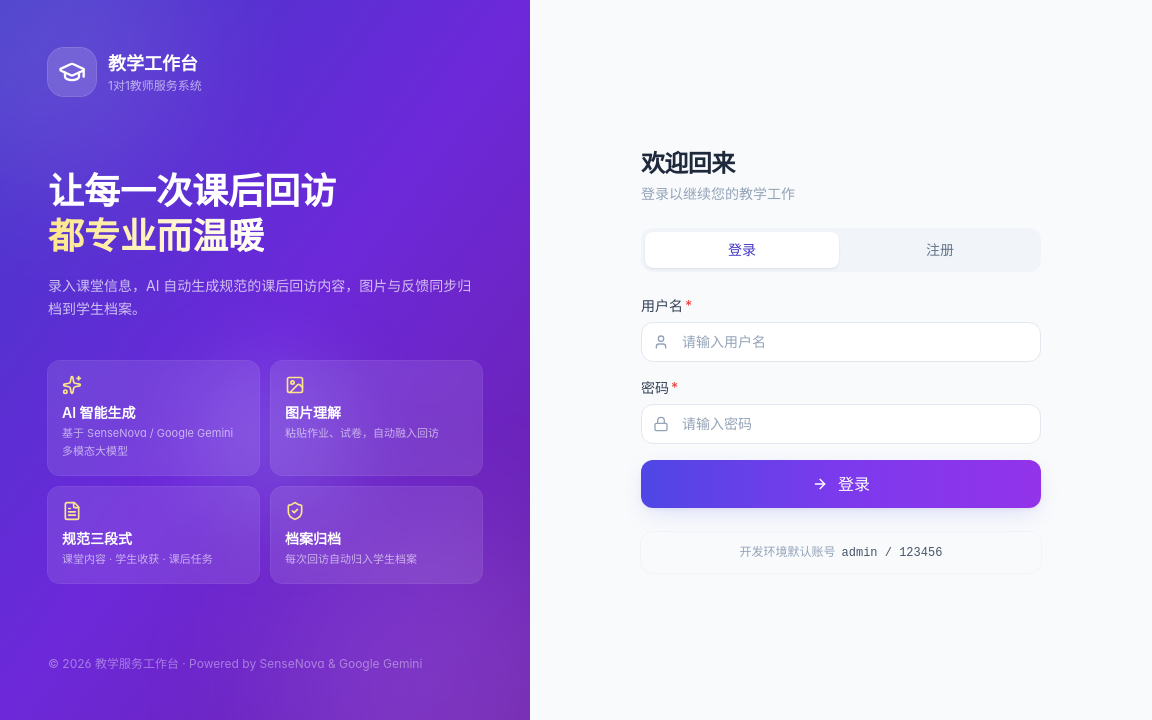
Scenario: 登录页 · 注册校验 › 两次密码不一致时阻止提交
Click the button "注册" at (940, 250), box top-left (843, 232), bottom-right (1037, 268)
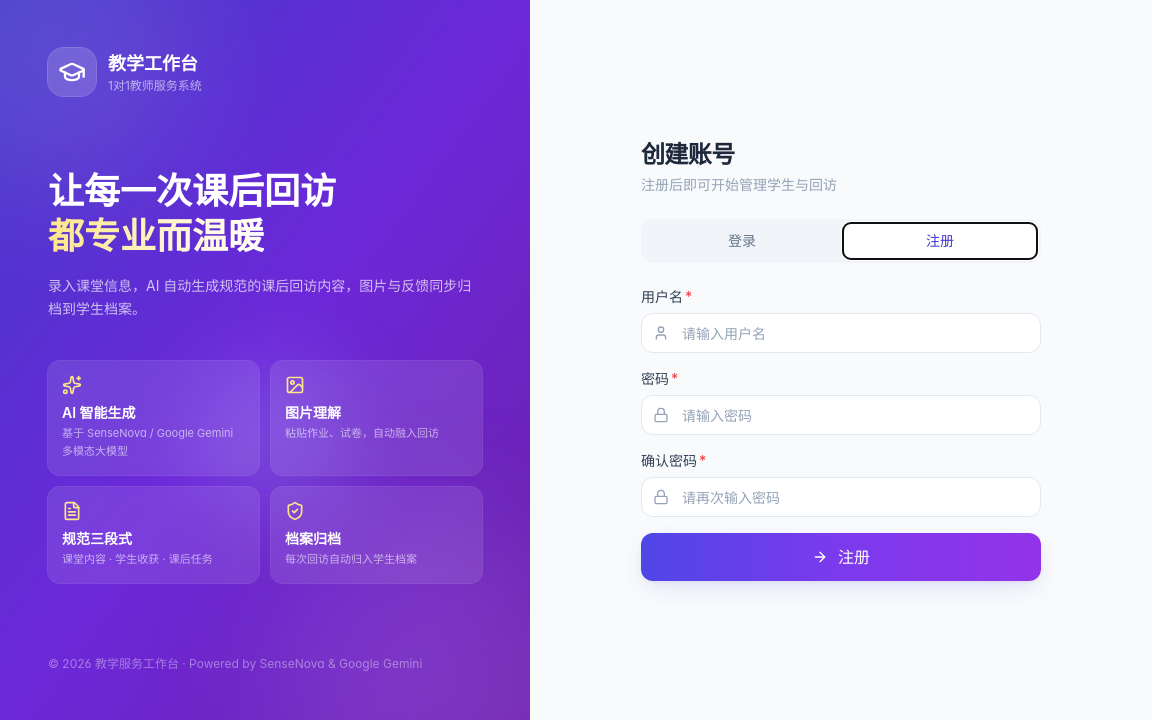
Type "newuser" into the field labelled "用户名*" at (841, 333), box top-left (641, 313), bottom-right (1041, 353)
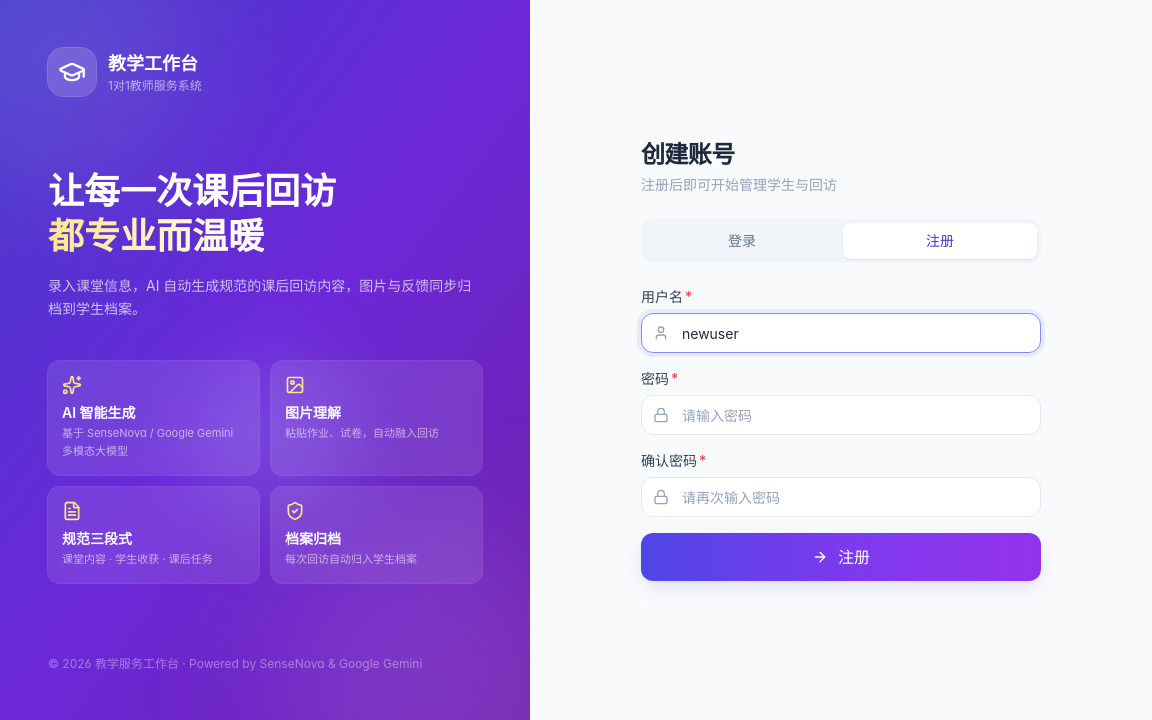
Type "secret123" into the password field labelled "密码*" at (841, 415), box top-left (641, 395), bottom-right (1041, 435)
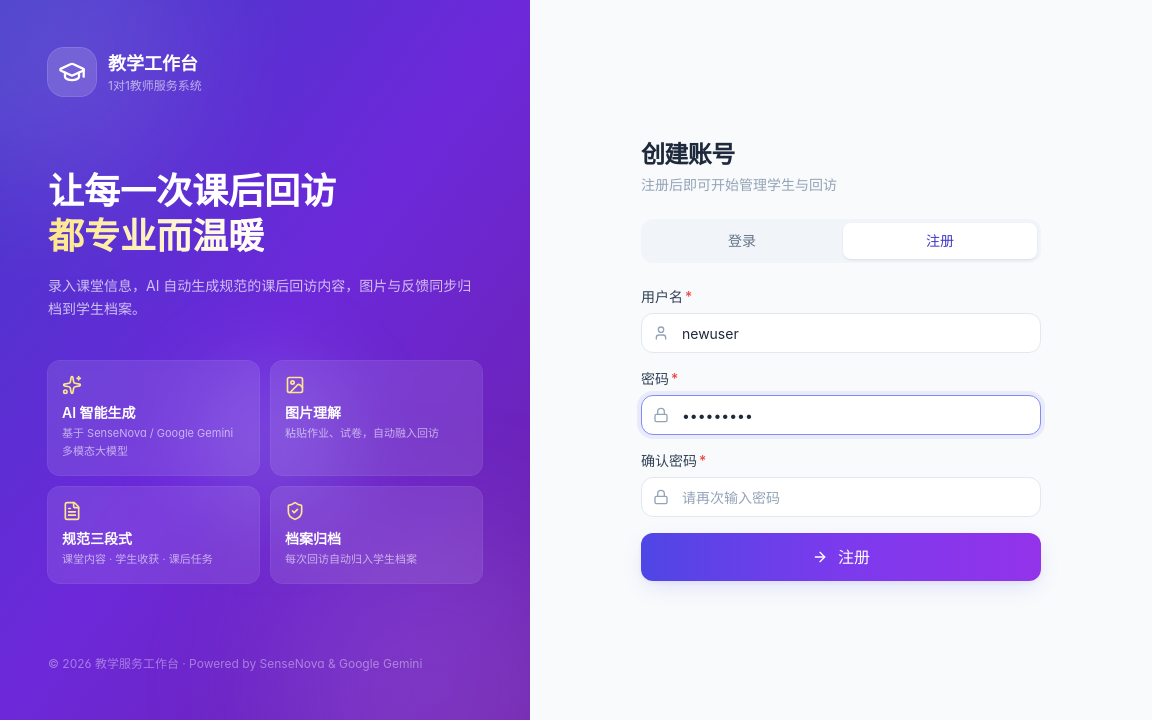
Type "different" into the password field labelled "确认密码*" at (841, 497), box top-left (641, 477), bottom-right (1041, 517)
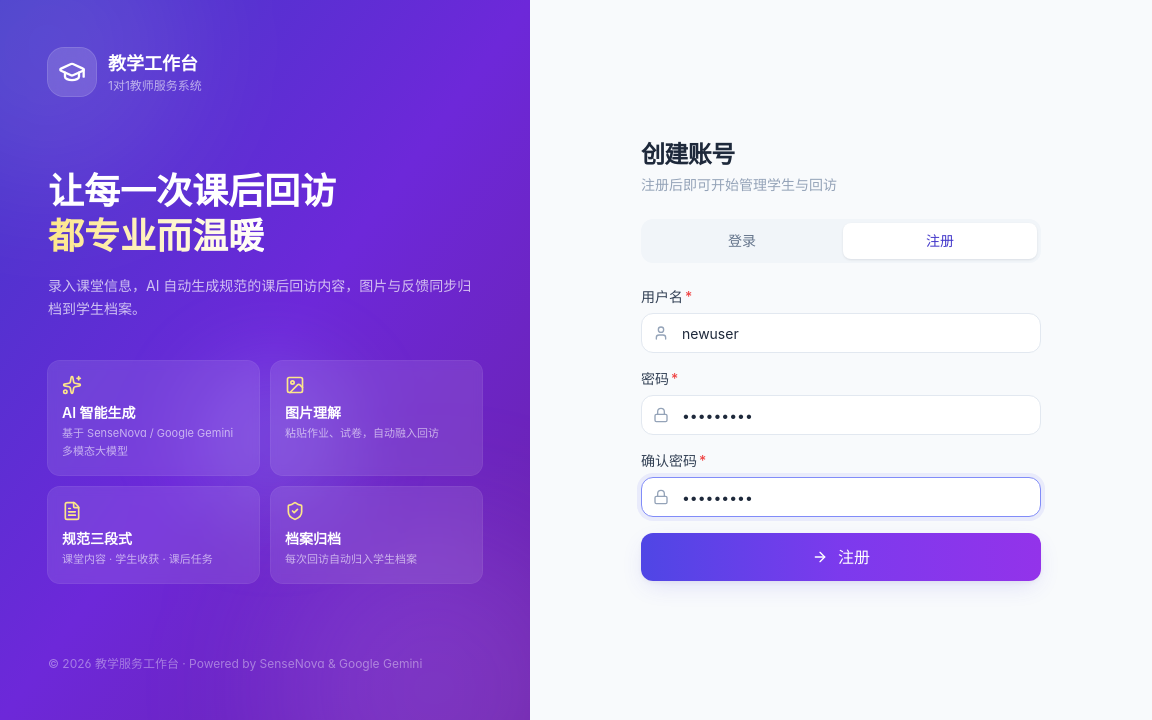
Click the submit button at (841, 557), box top-left (641, 533), bottom-right (1041, 581)
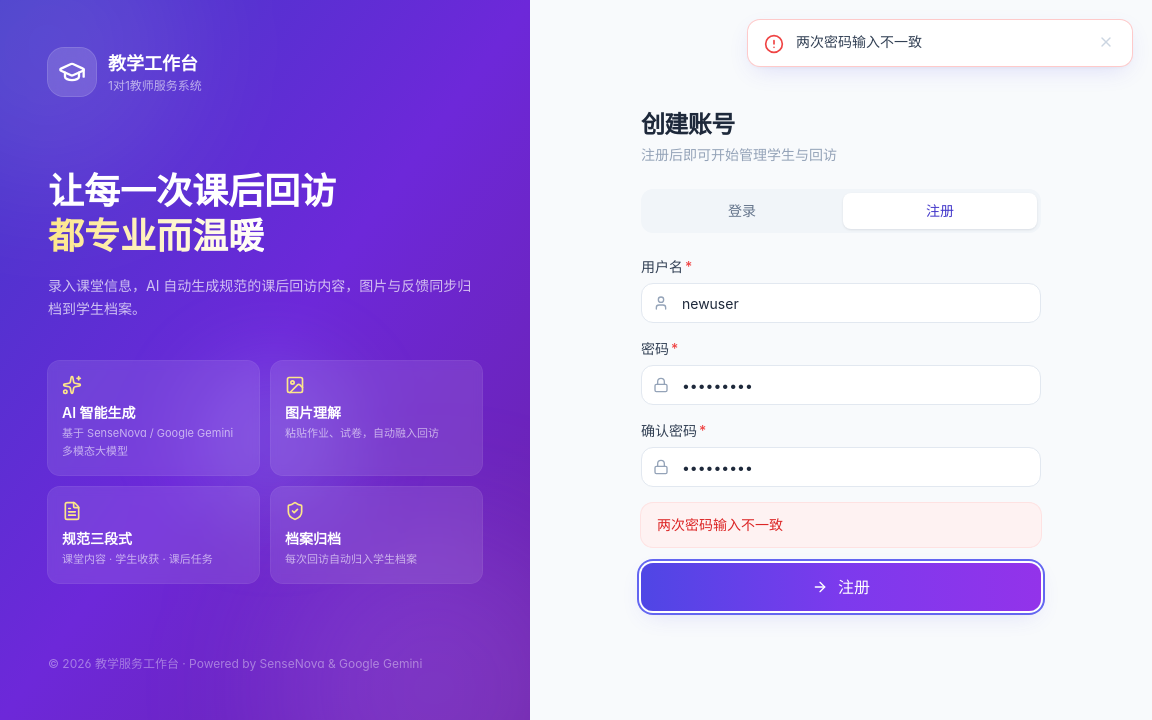
Check: the text "两次密码输入不一致" below "确认密码" is shown, box top-left (657, 516), bottom-right (783, 533)
